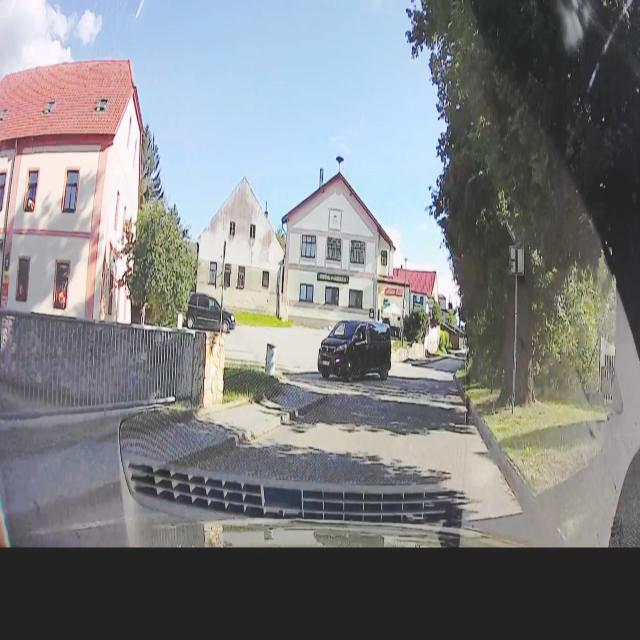Priority road: (503, 201, 527, 246)
